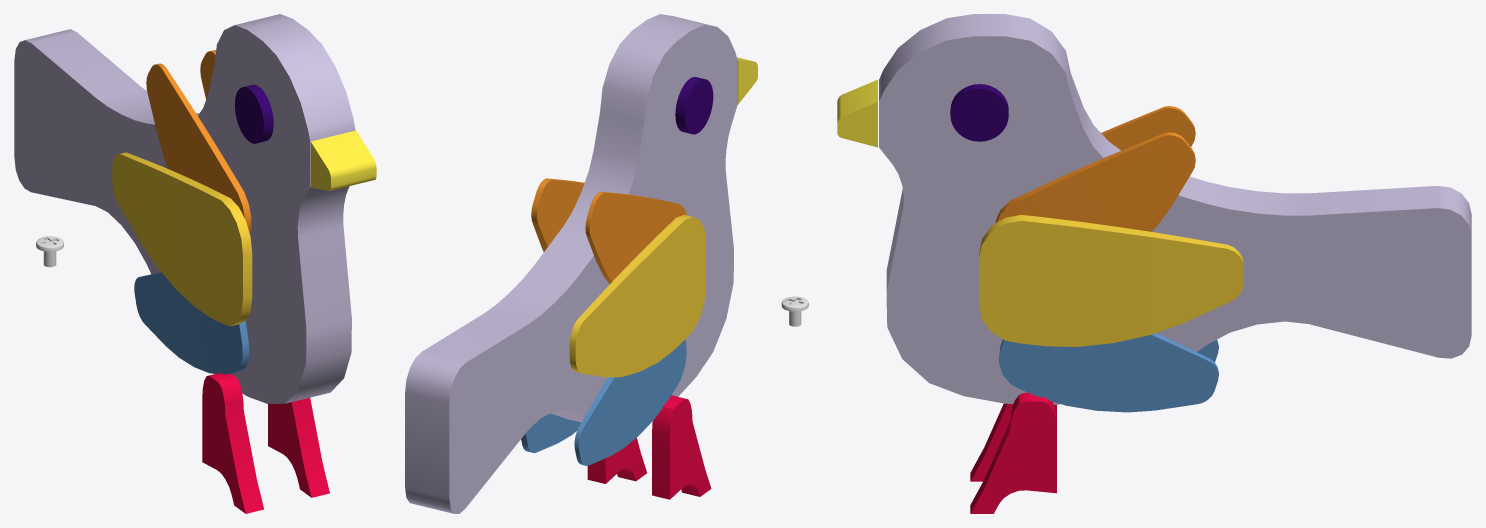
3 renders of one model, left to right at view 1: azimuth 30°, elevation 25°; view 2: azimuth 150°, elevation 25°; view 3: azimuth 270°, elevation 25°, orthographic. The views are drawn at different scales.
Parts seen in each view (by area): view 1: Cube.326, Cube.340, Cube.342, Cube.345, Cube.347, Cube.346, Cube.343, Cylinder.061, obj_screw, Cube.344; view 2: Cube.326, Cube.340, Cube.342, Cube.345, Cube.347, Cube.344, Cylinder.061, Cube.346, Cube.341, Cube.343, obj_screw; view 3: Cube.326, Cube.339, Cube.341, Cube.344, Cube.346, Cylinder.060, Cube.345, Cube.343, Cube.347.
Part boxes in pixels (bbox=[...]): Cube.326: bbox=[14, 14, 355, 403]; Cube.340: bbox=[112, 152, 252, 326]; Cube.342: bbox=[134, 272, 249, 374]; Cube.345: bbox=[146, 63, 251, 233]; Cube.347: bbox=[202, 373, 264, 513]; Cube.346: bbox=[268, 397, 329, 497]; Cube.343: bbox=[310, 130, 376, 190]; Cylinder.061: bbox=[234, 84, 273, 143]; obj_screw: bbox=[36, 236, 63, 267]; Cube.344: bbox=[200, 50, 216, 99]; Cube.326: bbox=[405, 14, 737, 513]; Cube.340: bbox=[569, 214, 705, 377]; Cube.342: bbox=[574, 340, 686, 465]; Cube.345: bbox=[585, 191, 686, 284]; Cube.347: bbox=[652, 395, 711, 499]; Cube.344: bbox=[531, 178, 584, 251]; Cylinder.061: bbox=[675, 77, 713, 134]; Cube.346: bbox=[587, 437, 646, 483]; Cube.341: bbox=[521, 413, 581, 452]; Cube.343: bbox=[737, 57, 757, 104]; obj_screw: bbox=[781, 296, 808, 326]; Cube.326: bbox=[879, 14, 1471, 404]; Cube.339: bbox=[979, 215, 1243, 346]; Cube.341: bbox=[999, 333, 1218, 412]; Cube.344: bbox=[995, 132, 1195, 231]; Cube.346: bbox=[970, 392, 1056, 513]; Cylinder.060: bbox=[950, 84, 1008, 141]; Cube.345: bbox=[1101, 106, 1195, 150]; Cube.343: bbox=[837, 79, 877, 147]; Cube.347: bbox=[970, 403, 1056, 481].
Bounding box in the file's own units: 19.44 × 36.03 × 44.28.
